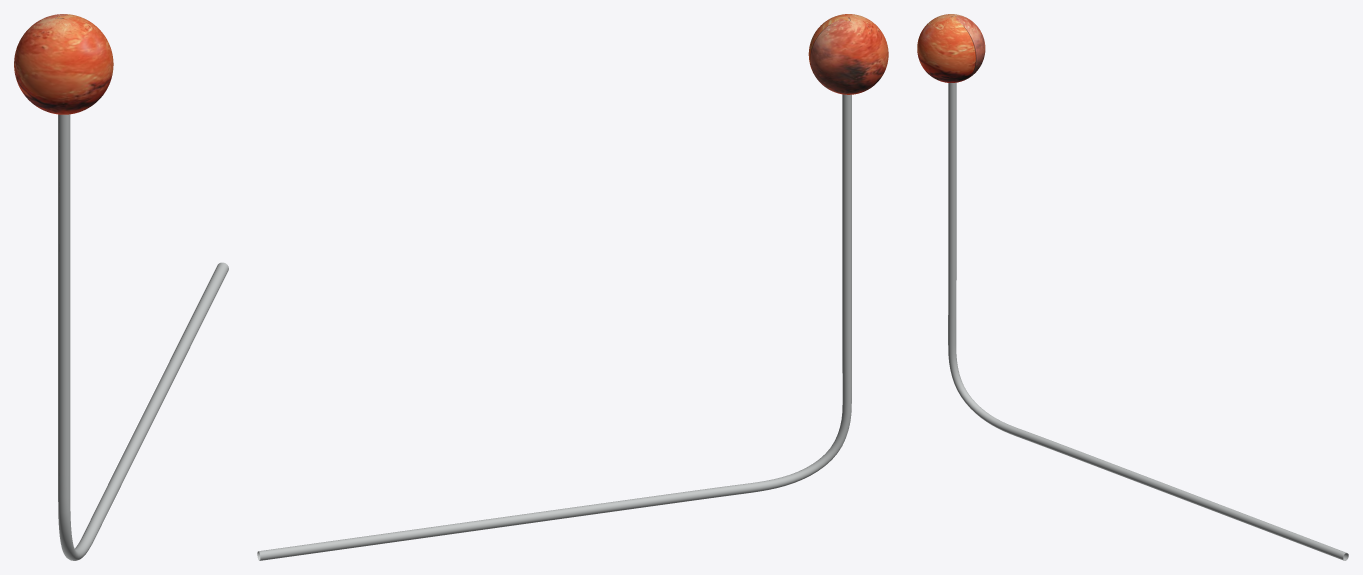
File: orrery_planeta6.glb
3 views of the same model, side by side, from view 1: azimuth 30°, elevation 25°; view 2: azimuth 150°, elevation 25°; view 3: azimuth 270°, elevation 25° (orthographic). The views are drawn at different scales.
Parts seen in each view (by area): view 1: polySurface1_modelUniverseMaterial_0; view 2: polySurface1_modelUniverseMaterial_0; view 3: polySurface1_modelUniverseMaterial_0.
Boxes of the visible parts, bbox=[...] form: polySurface1_modelUniverseMaterial_0: bbox=[14, 14, 228, 560]; polySurface1_modelUniverseMaterial_0: bbox=[257, 14, 888, 560]; polySurface1_modelUniverseMaterial_0: bbox=[917, 14, 1348, 560].
Bounding box in the file's own units: 0.1385 × 0.154 × 0.1528.
Materials: 1 (1 with a texture image).
